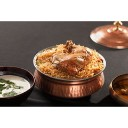briyani: (36, 43, 104, 75)
